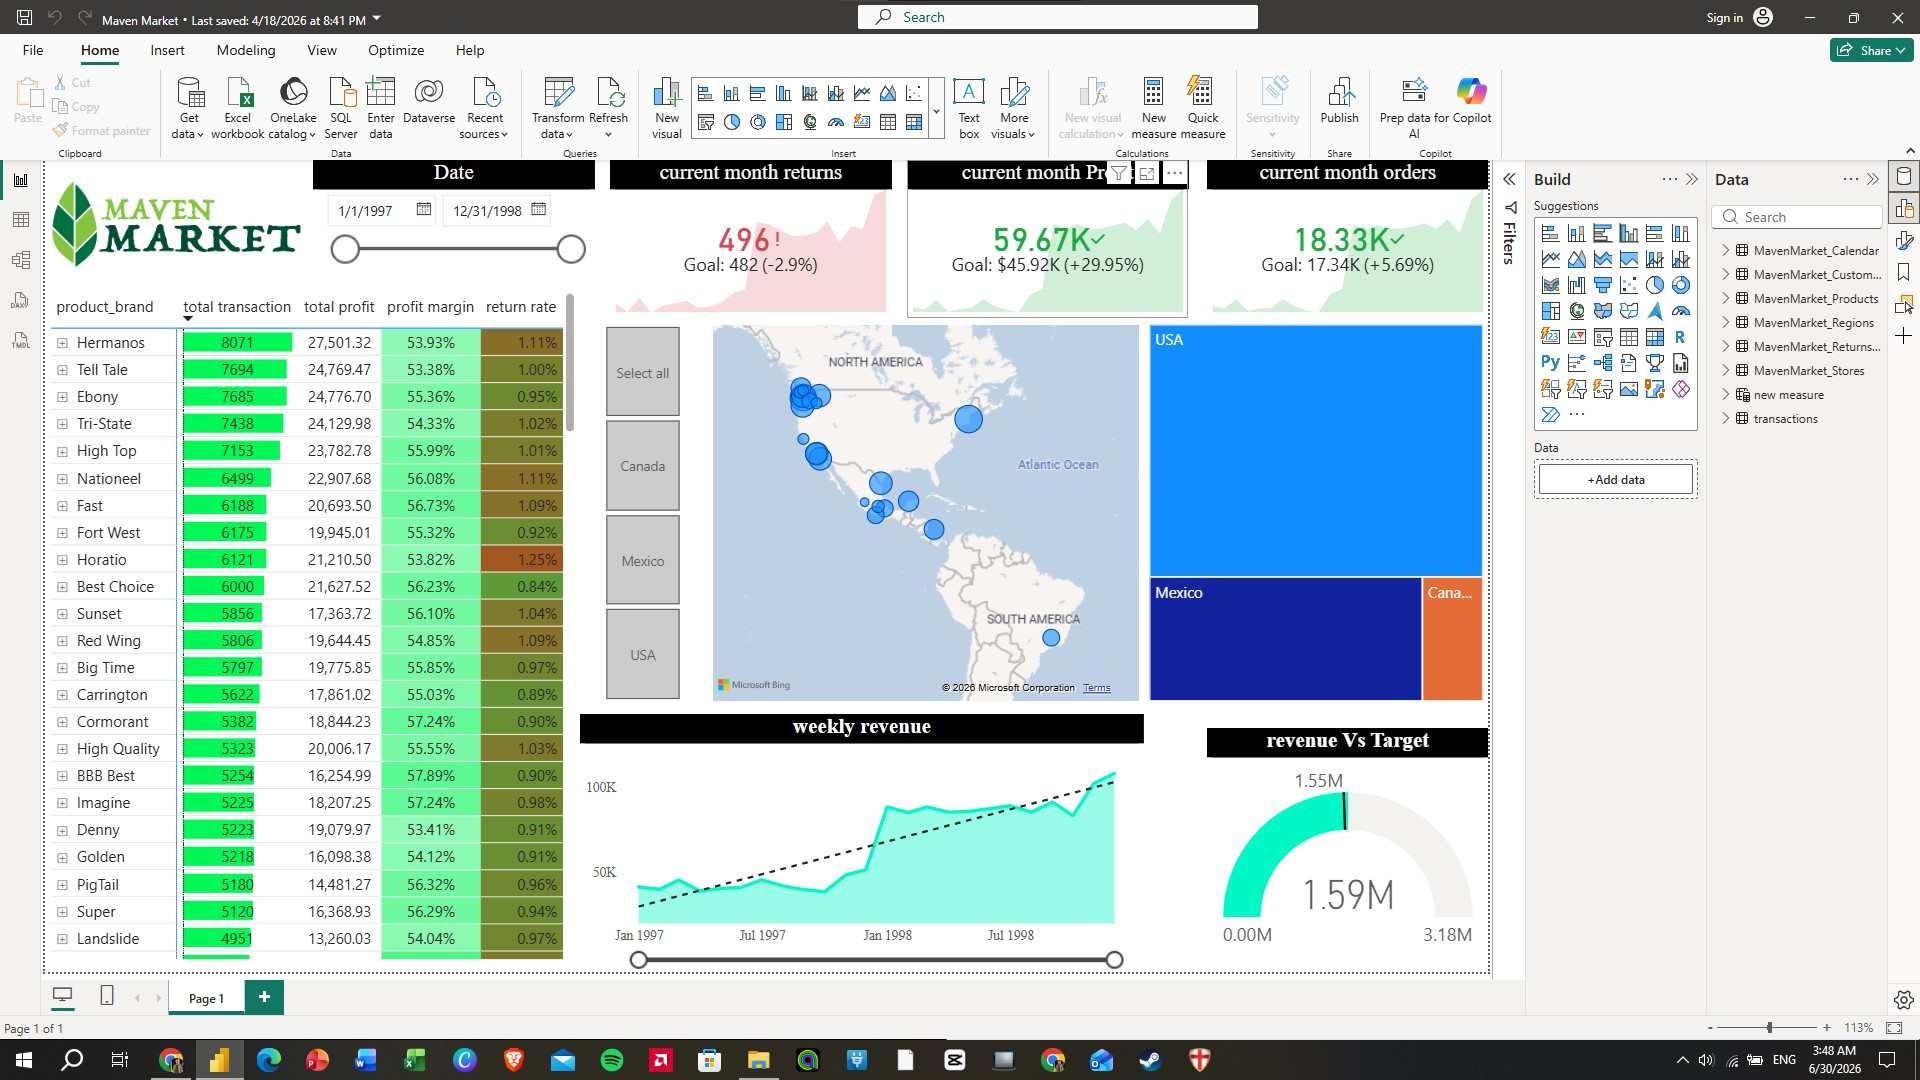

This screenshot's page, from the dashboard's own definition file:
{"tool":"powerbi","page":{"name":"Page 1","canvas":[1280,720],"ordinal":0},"visuals":[{"type":"pivotTable","fields":{"Rows":["MavenMarket_Products.product_brand","MavenMarket_Products.product_name"],"Values":["new measure.total transaction","new measure.total profit","new measure.profit margin","new measure.return rate"]},"box":[0,112.9,474.7,600.7],"z":0},{"type":"treemap","fields":{"Group":["MavenMarket_Stores.store_country","MavenMarket_Stores.store_city","MavenMarket_Stores.store_state"],"Values":["new measure.total transaction"]},"box":[974.6,141.1,305.4,343.7],"z":0,"group":"g1"},{"type":"slicer","fields":{"Values":["MavenMarket_Stores.store_country"]},"box":[471.7,141.1,114.9,343.7],"z":1000,"group":"g1"},{"type":"lineChart","title":"weekly revenue","fields":{"Category":["MavenMarket_Calendar.Start of Week"],"Y":["new measure.total revenue after discount"]},"box":[474.7,490.8,499.9,228.8],"z":1000},{"type":"group","id":"g1","title":"Group 1","box":[471.7,141.1,808.3,343.7],"z":2000},{"type":"map","fields":{"Category":["MavenMarket_Stores.store_city","MavenMarket_Stores.store_state","MavenMarket_Stores.store_country"],"Size":["new measure.total transaction"]},"box":[586.6,141.1,388,343.7],"z":2000,"group":"g1"},{"type":"kpi","title":"current month orders","fields":{"Goal":["new measure.last Month transaction"],"Indicator":["new measure.total transaction"],"TrendLine":["MavenMarket_Calendar.Start of Month"]},"box":[1030,0,250,140.1],"z":3000},{"type":"kpi","title":"current month Profit","fields":{"Goal":["new measure.last month profit"],"Indicator":["new measure.total profit"],"TrendLine":["MavenMarket_Calendar.Start of Month"]},"box":[764,0,250,140.1],"z":4000},{"type":"kpi","title":"current month returns","fields":{"Goal":["new measure.last month retuens"],"Indicator":["new measure.total returns"],"TrendLine":["MavenMarket_Calendar.Start of Month"]},"box":[500.9,0,250,140.1],"z":5000},{"type":"gauge","title":"revenue Vs Target","fields":{"TargetValue":["new measure.monthly target"],"Y":["new measure.total revenue after discount"]},"box":[1030,503.9,250,203.6],"z":6000},{"type":"slicer","title":"Date","fields":{"Values":["MavenMarket_Calendar.date"]},"box":[237.6,0,250,94],"z":7000},{"type":"image","box":[0,0,230.8,112.9],"z":8000}]}

Visuals, with their boxes on the page's 1280x720 design canvas (x1, y1, x2, y2). These are canvas units, not pixel positions in the 1920x1080 screenshot, which may show the page scaled, cropped or inside an application window:
pivotTable - MavenMarket_Products.product_brand x MavenMarket_Products.product_name: (left=0, top=113, right=475, bottom=714)
treemap - MavenMarket_Stores.store_country x MavenMarket_Stores.store_city: (left=975, top=141, right=1280, bottom=485)
slicer - MavenMarket_Stores.store_country: (left=472, top=141, right=587, bottom=485)
"weekly revenue" lineChart: (left=475, top=491, right=975, bottom=720)
"Group 1" group: (left=472, top=141, right=1280, bottom=485)
map - MavenMarket_Stores.store_city x MavenMarket_Stores.store_state: (left=587, top=141, right=975, bottom=485)
"current month orders" kpi: (left=1030, top=0, right=1280, bottom=140)
"current month Profit" kpi: (left=764, top=0, right=1014, bottom=140)
"current month returns" kpi: (left=501, top=0, right=751, bottom=140)
"revenue Vs Target" gauge: (left=1030, top=504, right=1280, bottom=708)
"Date" slicer: (left=238, top=0, right=488, bottom=94)
image: (left=0, top=0, right=231, bottom=113)
